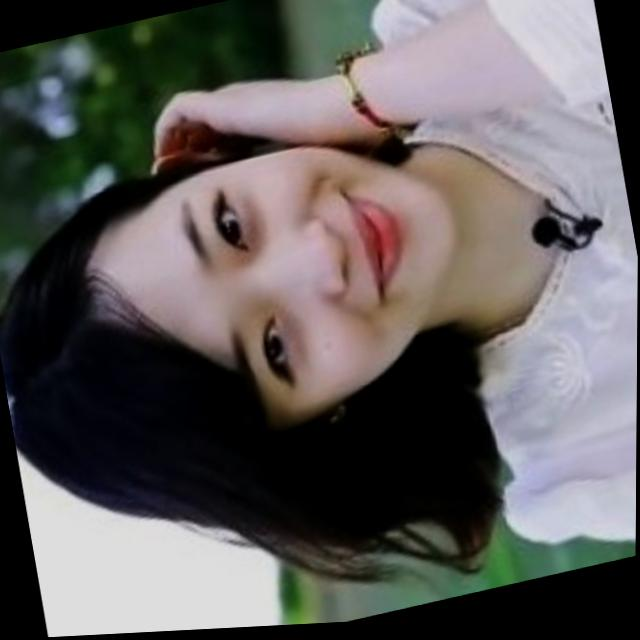face: (76, 122, 480, 461)
